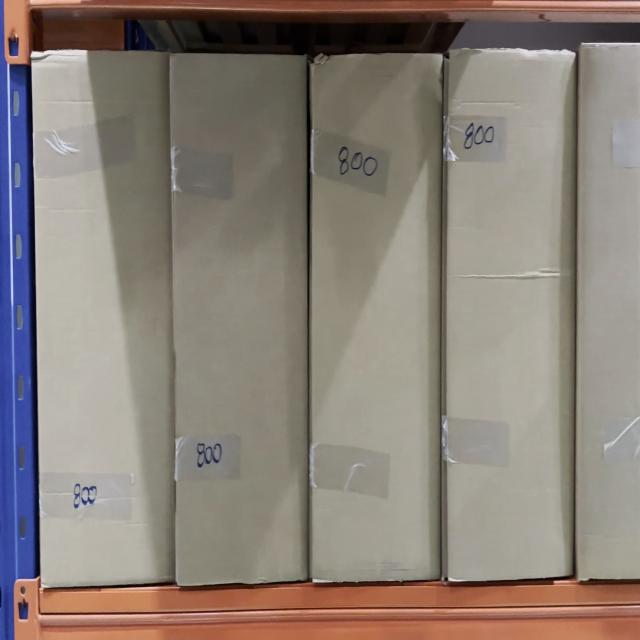box: (36, 51, 175, 586), (175, 52, 308, 585), (448, 50, 578, 578), (312, 55, 442, 582), (579, 44, 640, 582)
